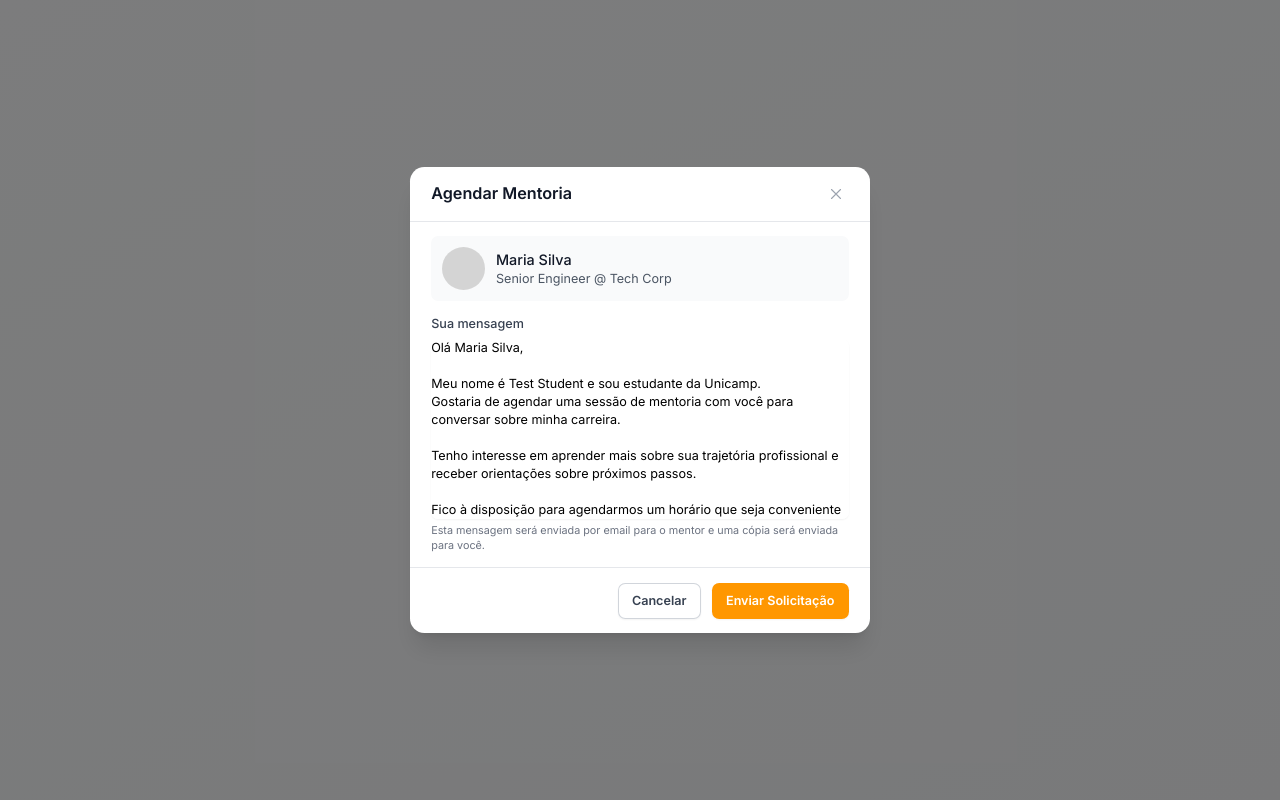
Test case: BookingModal › error handling › handles API validation errors (422)
Click the button "Enviar Solicitação": (780, 601) top-left (712, 583), bottom-right (849, 619)
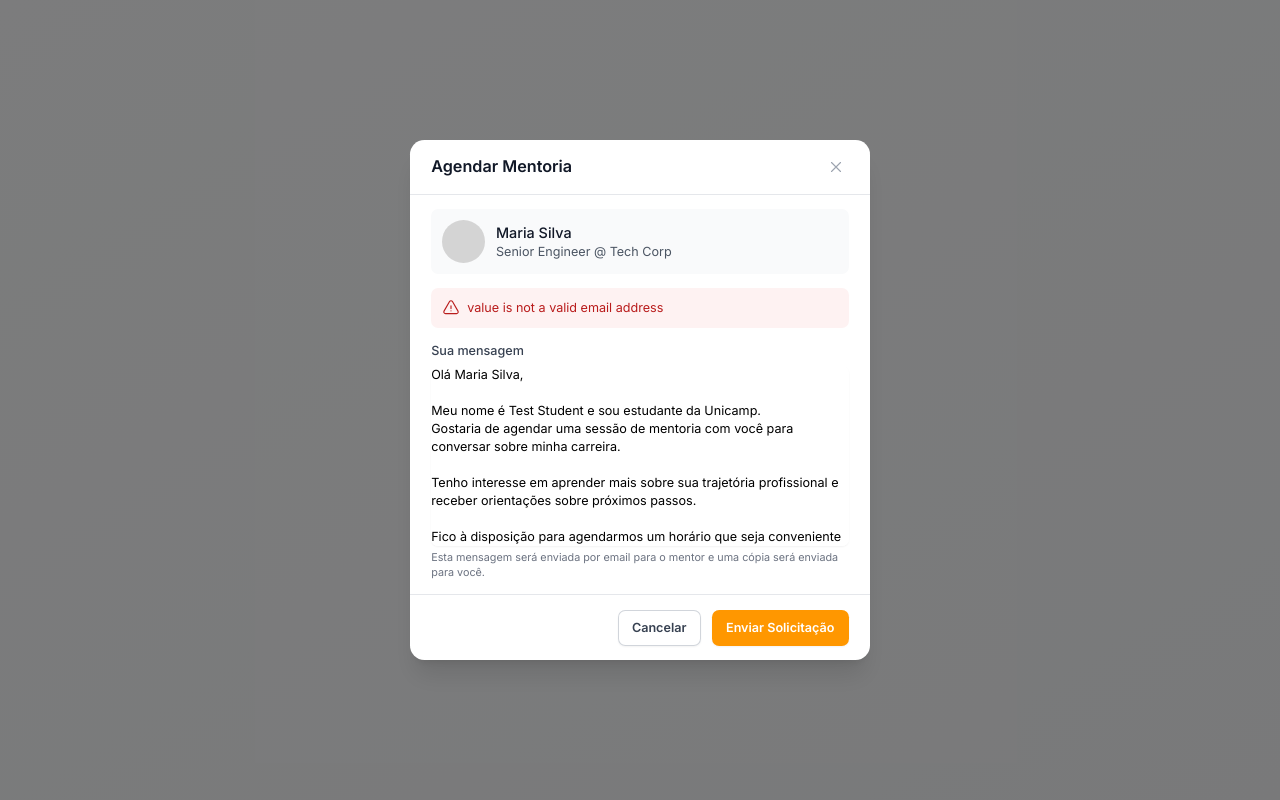
Now the text "value is not a valid email address" is shown, box top-left (467, 299), bottom-right (663, 317)
